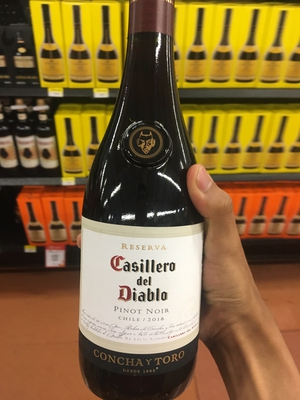casillero del diablo pinot noir: (73, 20, 221, 400)
